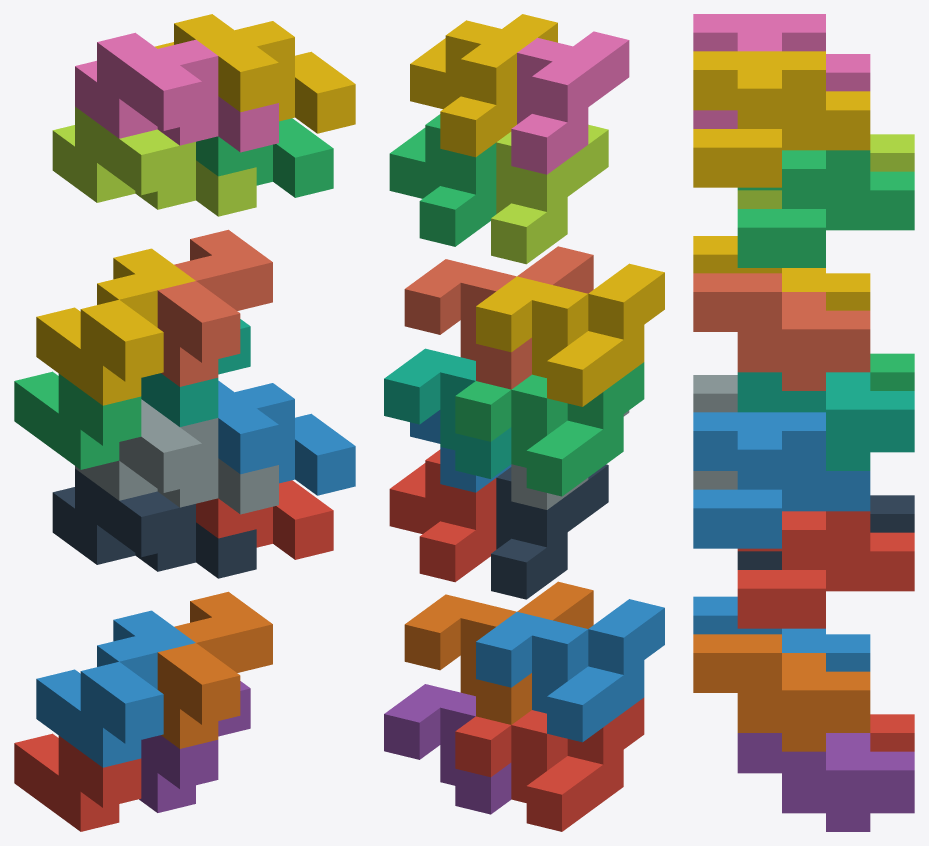
Rendered from tiling.obj.
3 renders of one model, left to right at view 1: azimuth 30°, elevation 25°; view 2: azimuth 150°, elevation 25°; view 3: azimuth 270°, elevation 25°, orthographic. The views are drawn at different scales.
Visible parts, largest first — view 1: copy_2_domain_4, copy_1_domain_2, copy_1_domain_4, copy_2_domain_3, copy_2_domain_1, copy_1_domain_6, copy_1_domain_8, copy_2_domain_8, copy_2_domain_2, copy_2_domain_6, copy_1_domain_1, copy_1_domain_3 (+4 smaller); view 2: copy_1_domain_2, copy_1_domain_4, copy_1_domain_1, copy_1_domain_3, copy_2_domain_8, copy_2_domain_4, copy_1_domain_6, copy_1_domain_8, copy_2_domain_5, copy_2_domain_7, copy_2_domain_3, copy_2_domain_1 (+4 smaller); view 3: copy_2_domain_8, copy_2_domain_6, copy_2_domain_5, copy_2_domain_7, copy_1_domain_8, copy_1_domain_6, copy_1_domain_5, copy_1_domain_7, copy_2_domain_4, copy_1_domain_2, copy_1_domain_4, copy_2_domain_1 (+4 smaller).
Boxes of the visible parts, left/top/right/bottom form: copy_2_domain_4: left=75, top=32, right=278, bottom=152; copy_1_domain_2: left=36, top=610, right=195, bottom=767; copy_1_domain_4: left=36, top=248, right=195, bottom=405; copy_2_domain_3: left=52, top=106, right=256, bottom=216; copy_2_domain_1: left=52, top=468, right=256, bottom=578; copy_1_domain_6: left=157, top=591, right=272, bottom=748; copy_1_domain_8: left=157, top=229, right=272, bottom=386; copy_2_domain_8: left=155, top=14, right=355, bottom=133; copy_2_domain_2: left=75, top=399, right=278, bottom=514; copy_2_domain_6: left=218, top=380, right=355, bottom=495; copy_1_domain_1: left=14, top=733, right=141, bottom=831; copy_1_domain_3: left=14, top=371, right=141, bottom=469; copy_1_domain_2: left=476, top=599, right=664, bottom=742; copy_1_domain_4: left=476, top=263, right=664, bottom=406; copy_1_domain_1: left=455, top=697, right=644, bottom=831; copy_1_domain_3: left=455, top=362, right=644, bottom=496; copy_2_domain_8: left=410, top=14, right=557, bottom=157; copy_2_domain_4: left=511, top=31, right=629, bottom=174; copy_1_domain_6: left=404, top=581, right=593, bottom=724; copy_1_domain_8: left=404, top=246, right=593, bottom=389; copy_2_domain_5: left=389, top=449, right=496, bottom=582; copy_2_domain_7: left=389, top=114, right=496, bottom=246; copy_2_domain_3: left=491, top=124, right=608, bottom=264; copy_2_domain_1: left=491, top=464, right=608, bottom=599; copy_2_domain_8: left=693, top=51, right=870, bottom=187; copy_2_domain_6: left=693, top=412, right=870, bottom=548; copy_2_domain_5: left=737, top=511, right=914, bottom=628; copy_2_domain_7: left=737, top=150, right=914, bottom=267; copy_1_domain_8: left=693, top=273, right=870, bottom=390; copy_1_domain_6: left=693, top=634, right=870, bottom=751; copy_1_domain_5: left=737, top=733, right=914, bottom=831; copy_1_domain_7: left=737, top=372, right=914, bottom=470; copy_2_domain_4: left=693, top=14, right=870, bottom=128; copy_1_domain_2: left=693, top=596, right=870, bottom=671; copy_1_domain_4: left=693, top=236, right=870, bottom=310; copy_2_domain_1: left=737, top=495, right=914, bottom=569.
Size of the model in its own units: 6 by 19 by 5.
